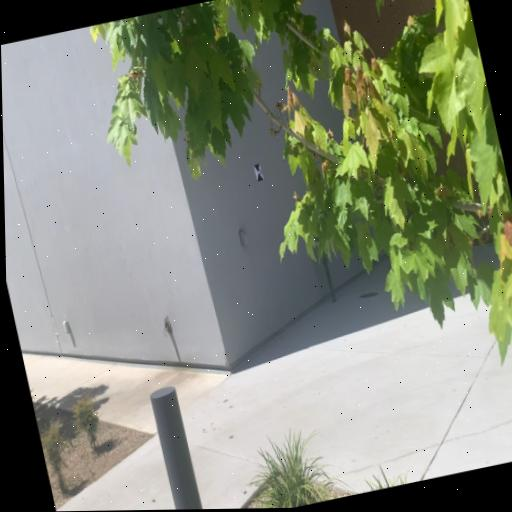target5: (253, 163, 265, 182)
